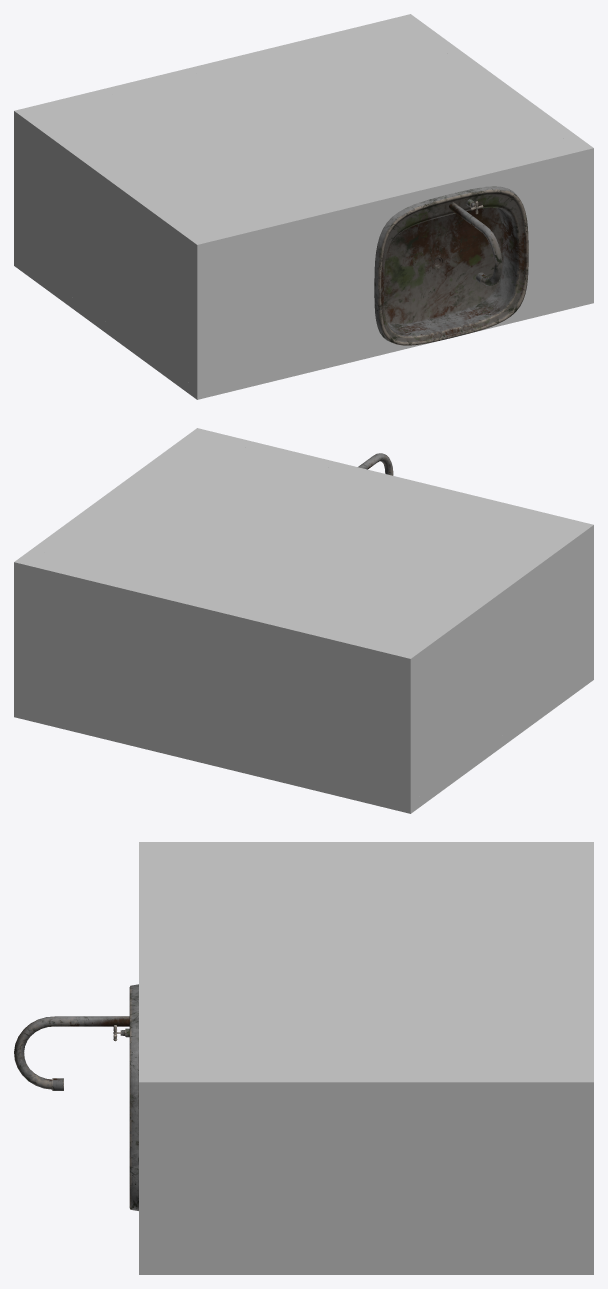
File: SM_Prop_Wood_Sink_01.fbx
3 renders of one model, top to bottom at view 1: azimuth 30°, elevation 25°; view 2: azimuth 150°, elevation 25°; view 3: azimuth 270°, elevation 25°, orthographic. The views are drawn at different scales.
Parts seen in each view (by area): view 1: SM_Prop_Wood_Sink_01, SM_Sink_Old_SP.001, SM_Prop_Wood_Sink_Door_01.001; view 2: SM_Prop_Wood_Sink_01, SM_Prop_Wood_Sink_Door_01.001; view 3: SM_Prop_Wood_Sink_01, SM_Sink_Old_SP.001, SM_Prop_Wood_Sink_Door_01.
Part boxes in pixels (x1,y1,x2,y2): SM_Prop_Wood_Sink_01: (14,14,593,399); SM_Sink_Old_SP.001: (374,186,528,345); SM_Prop_Wood_Sink_Door_01.001: (37,272,158,371); SM_Prop_Wood_Sink_01: (14,428,593,813); SM_Prop_Wood_Sink_Door_01.001: (433,697,555,796); SM_Prop_Wood_Sink_01: (139,842,593,1274); SM_Sink_Old_SP.001: (14,984,138,1210); SM_Prop_Wood_Sink_Door_01: (233,1261,536,1274).
Size of the model in its own units: 1.5 by 0.6179 by 1.53.
